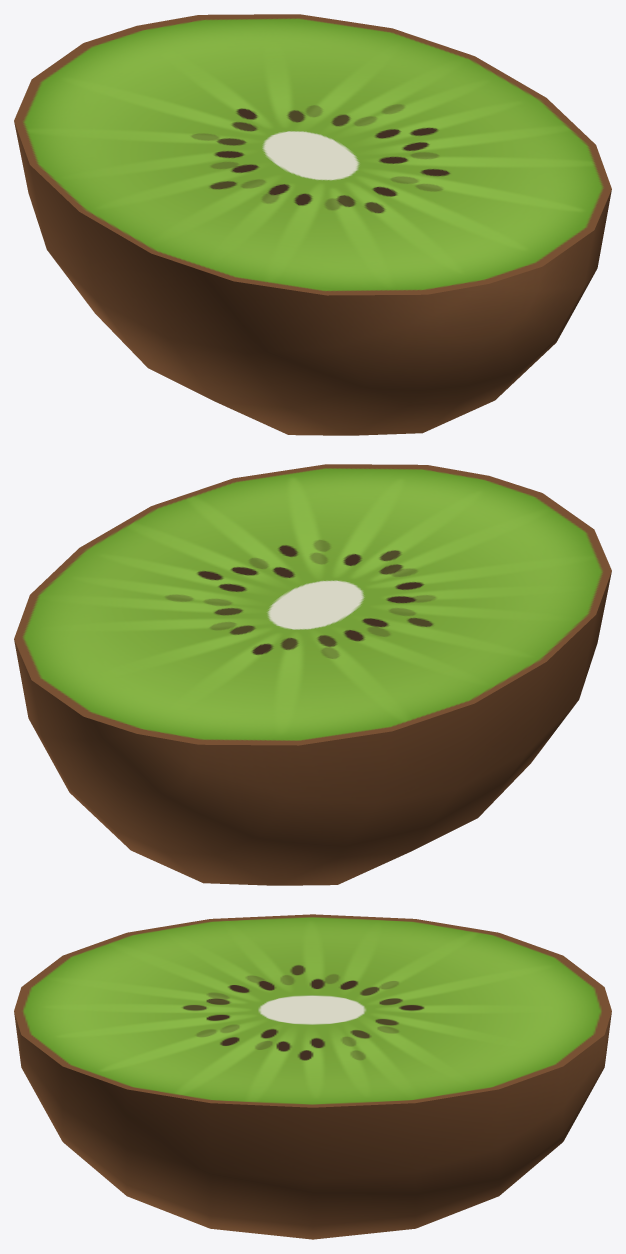
File: ENV1810017.fbx
3 renders of one model, top to bottom at view 1: azimuth 30°, elevation 25°; view 2: azimuth 150°, elevation 25°; view 3: azimuth 270°, elevation 25°, orthographic. The views are drawn at different scales.
Parts seen in each view (by area): view 1: smENV1810017; view 2: smENV1810017; view 3: smENV1810017.
Part boxes in pixels (<box>): smENV1810017: <box>14,14,611,435</box>; smENV1810017: <box>14,464,611,885</box>; smENV1810017: <box>14,914,611,1239</box>.
Bounding box in the file's own units: 7.78 × 3.89 × 10.17.
1 material, 1 textured.
